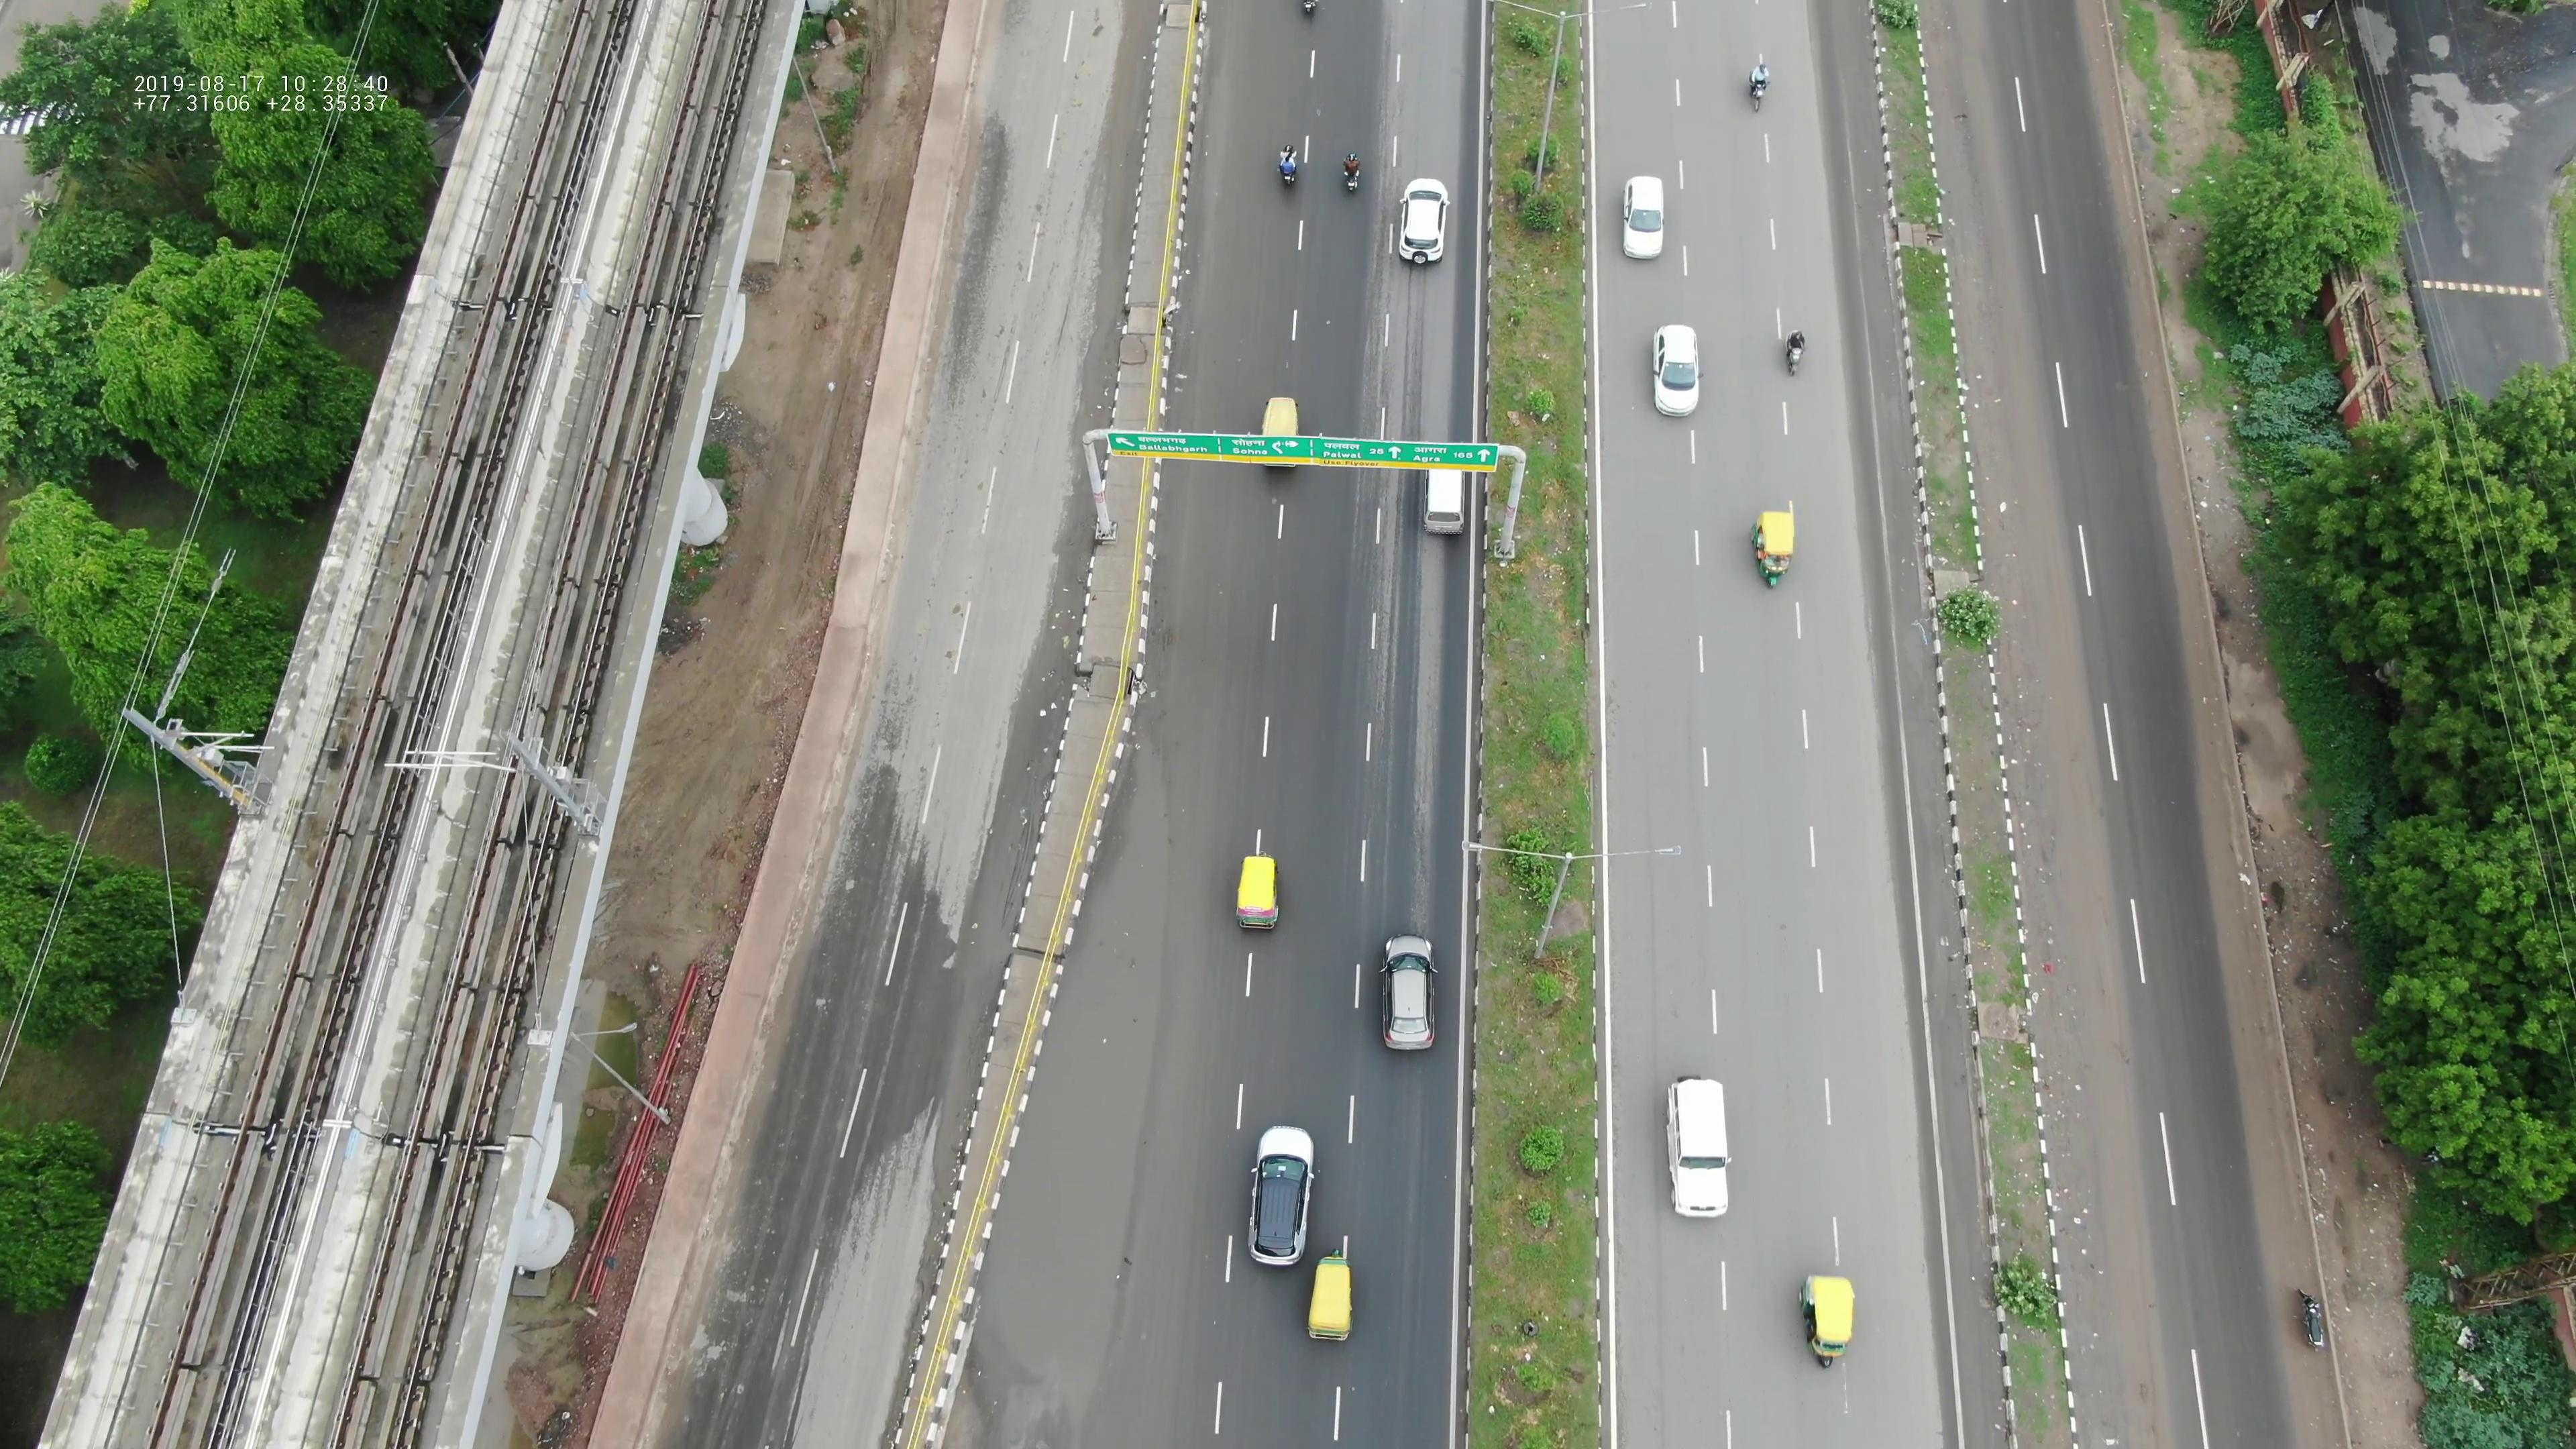Muddy_road: (1976, 616, 2144, 991), (1930, 196, 2082, 600), (2035, 1028, 2169, 1430)
Waterlogging: (984, 787, 1185, 1369)
